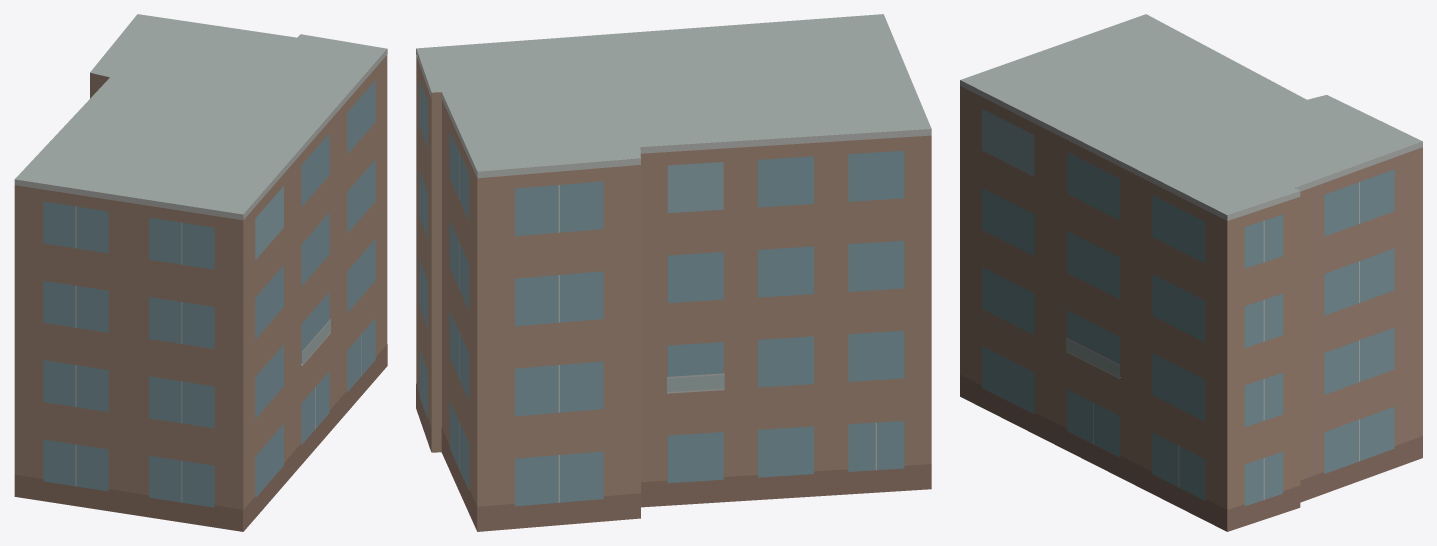
File: survey-upis-33024915.glb
3 views of the same model, side by side, from view 1: azimuth 30°, elevation 25°; view 2: azimuth 150°, elevation 25°; view 3: azimuth 270°, elevation 25° (orthographic). The views are drawn at different scales.
Visible parts, largest first — view 1: survey-upis-33024915.tmp; view 2: survey-upis-33024915.tmp; view 3: survey-upis-33024915.tmp.
Boxes of the visible parts, <box> form: survey-upis-33024915.tmp: <box>14,14,387,531</box>; survey-upis-33024915.tmp: <box>416,14,931,531</box>; survey-upis-33024915.tmp: <box>960,14,1422,531</box>.
Size of the model in its own units: 18.35 by 13.45 by 17.83.
